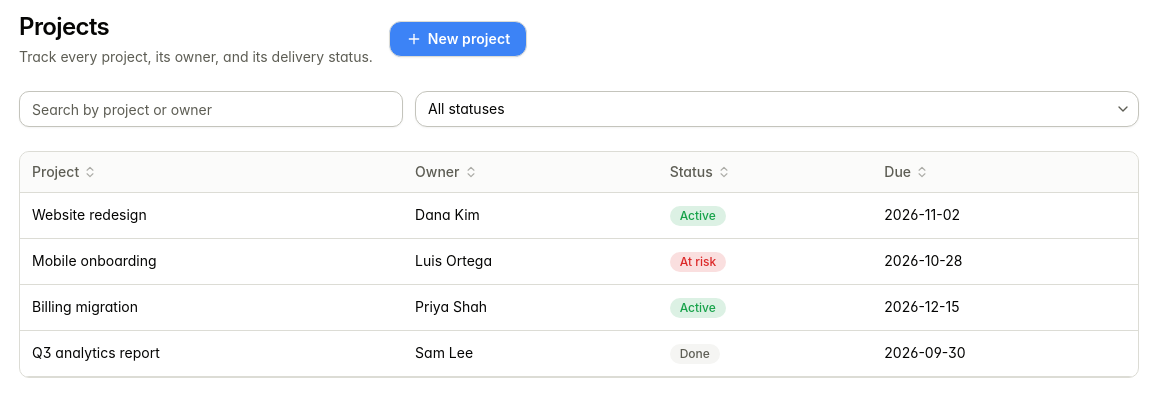
Test: list-page › filters by search and status, and shows the empty message
In the search field named "Search projects": (211, 109) [19,91,403,127], type "luis"
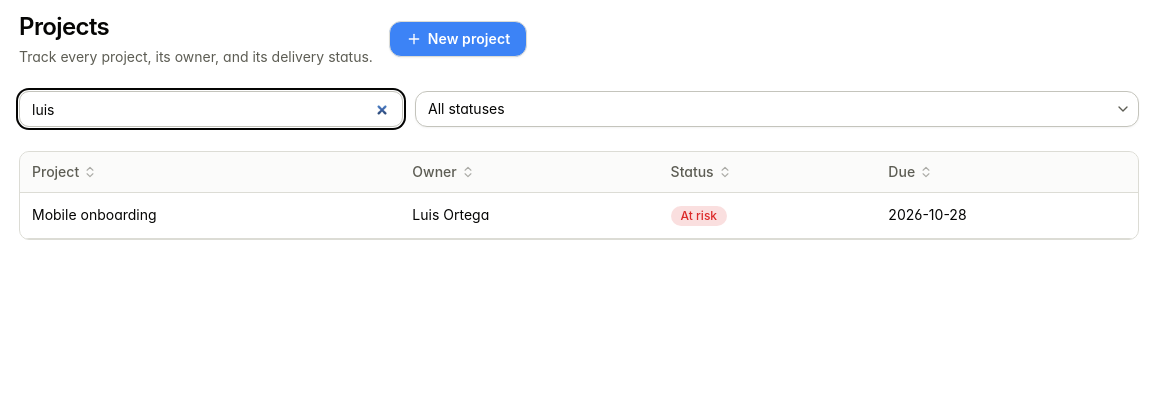
Expected: the text "Mobile onboarding" is shown, [20,192,400,238]
Clear the search field named "Search projects": (211, 109) [19,91,403,127]
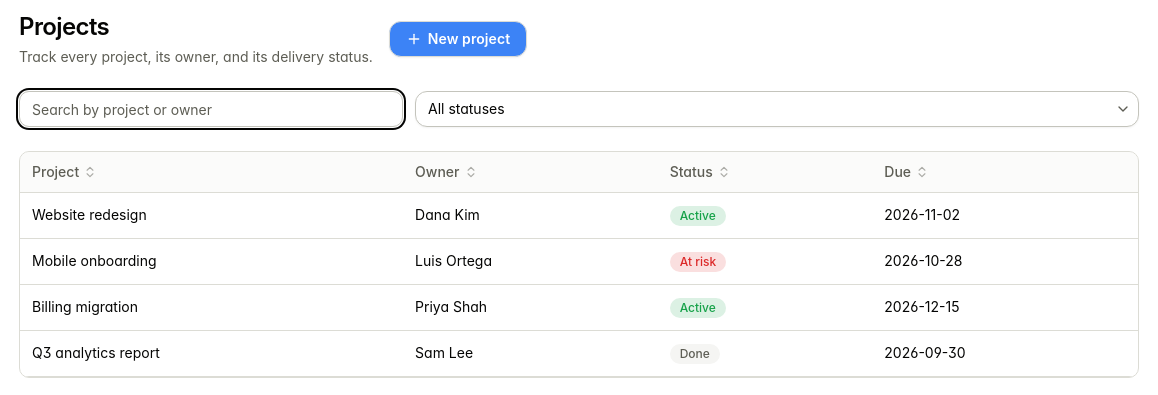
Select "Done" in the dropdown named "Filter by status": (777, 109) [415,91,1139,127]
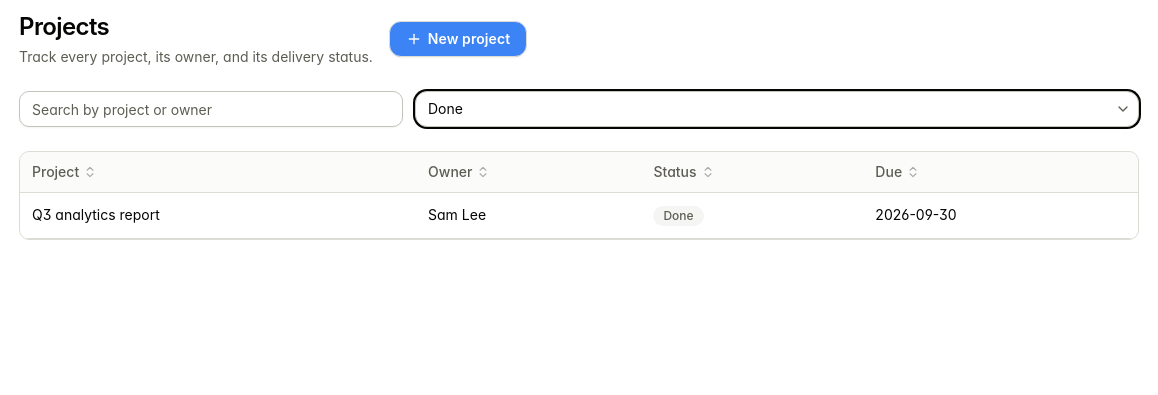
Expected: the text "Q3 analytics report" is shown, [20,192,416,238]
In the search field named "Search projects": (211, 109) [19,91,403,127], type "nothing like this"
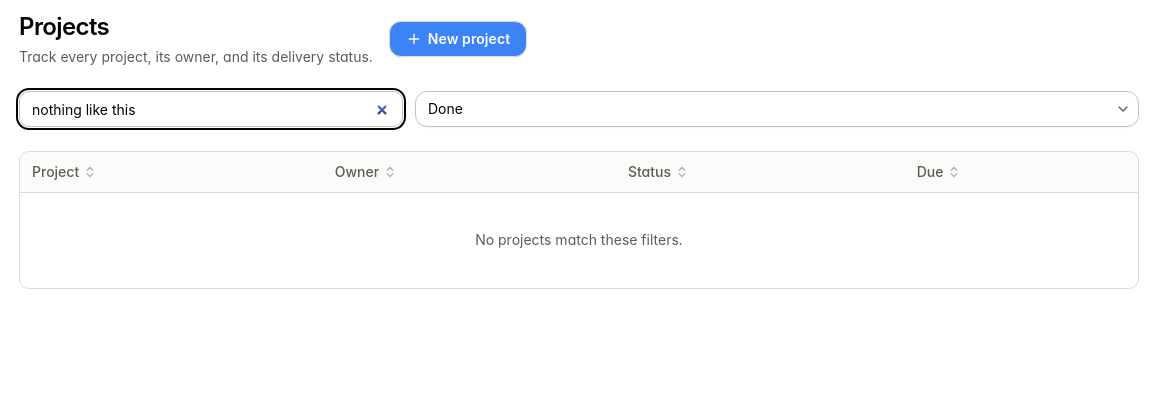
Expected: the text "No projects match these filters." is shown, [20,192,1138,288]
